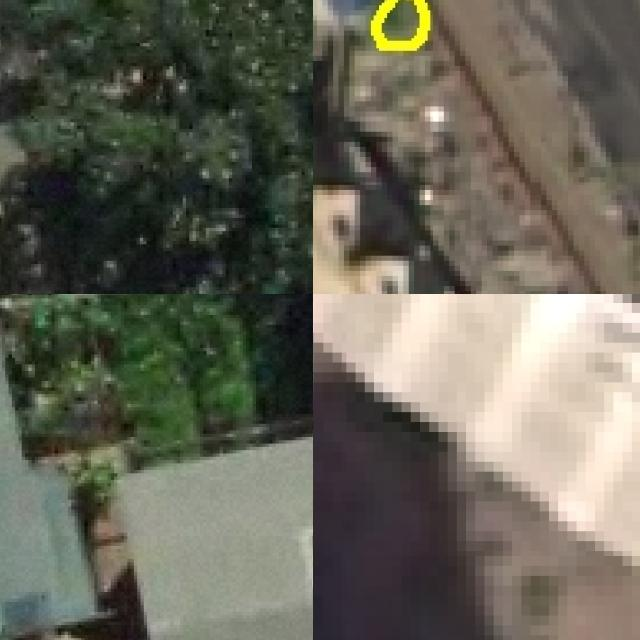trees: (6, 1, 314, 295), (375, 1, 426, 47)
